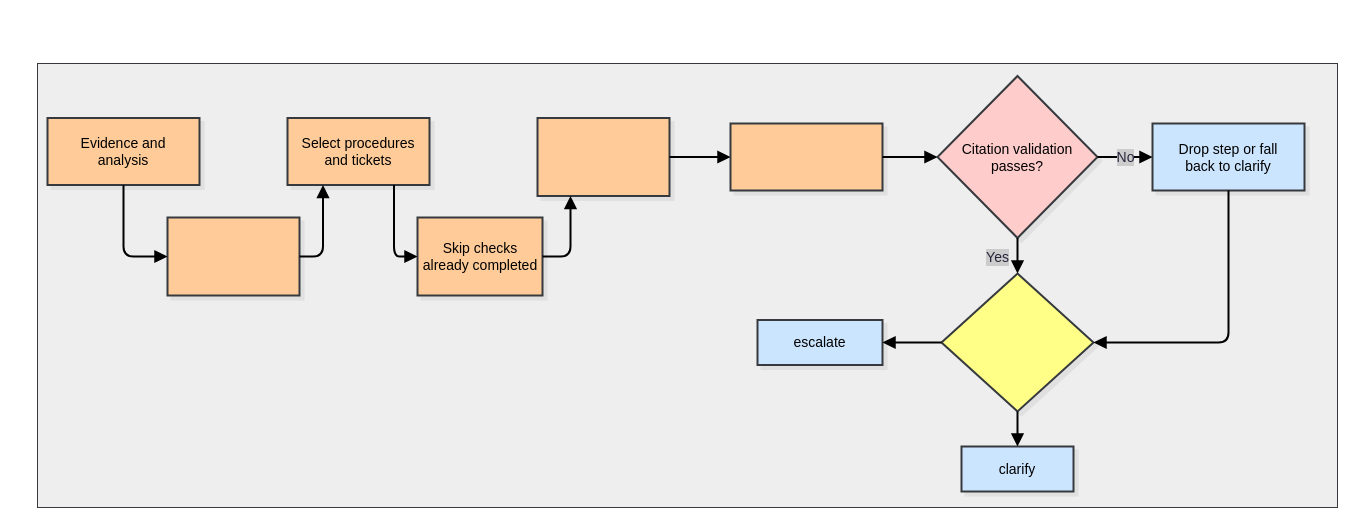
This 1355x525 diagram has some shape labels left out. The centre of each missing label's shape, as x and y in pixels:
"Attach exact-source citations" goes at pixel 808 158.
"Build conditional steps: only if confirmed" goes at pixel 605 158.
"Check applicability to this complaint" goes at pixel 235 258.
"Decision policy" goes at pixel 1019 344.
